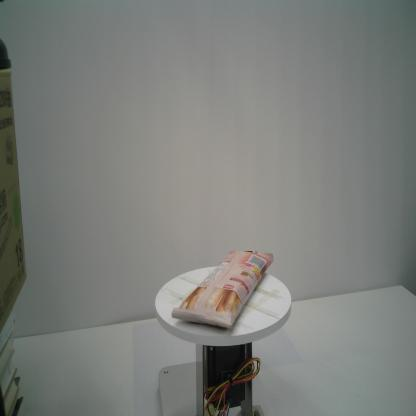Dessert: (170, 248, 274, 330)
